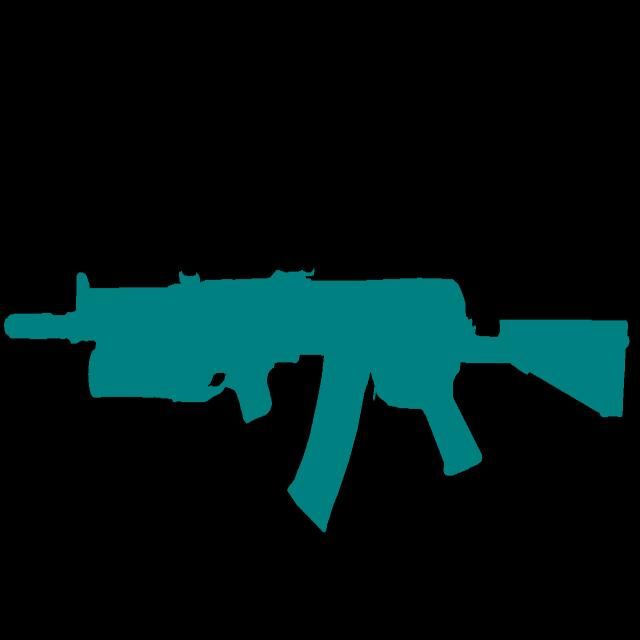firearm: (3, 268, 630, 532)
